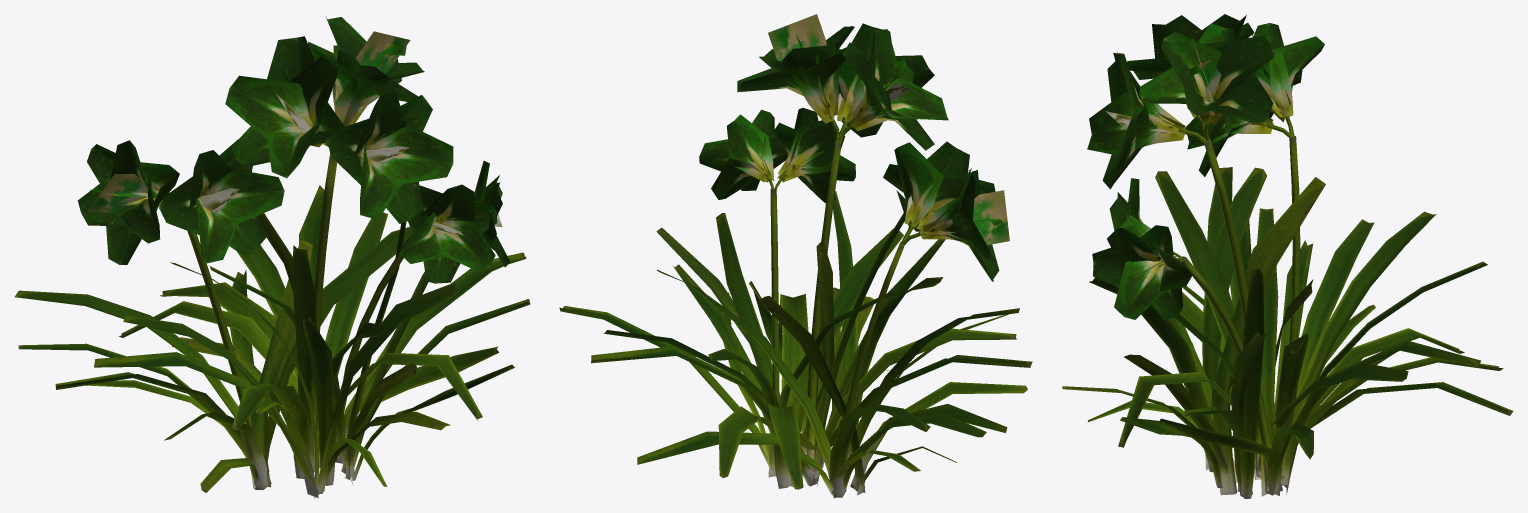
Rendered from Amaryllis_bush_normal_greenyellow.glb.
The picture shows the model from 3 angles, left to right: view 1: azimuth 30°, elevation 25°; view 2: azimuth 150°, elevation 25°; view 3: azimuth 270°, elevation 25°; orthographic projection. The views are drawn at different scales.
Parts seen in each view (by area): view 1: bush; view 2: bush; view 3: bush.
Part boxes in pixels (x1,y1,x2,y2): bush: (15, 17, 530, 498); bush: (559, 14, 1032, 498); bush: (1062, 14, 1513, 498).
Bounding box in the file's own units: 2.94 × 2.74 × 2.41.
Materials: 1 (1 with a texture image).
